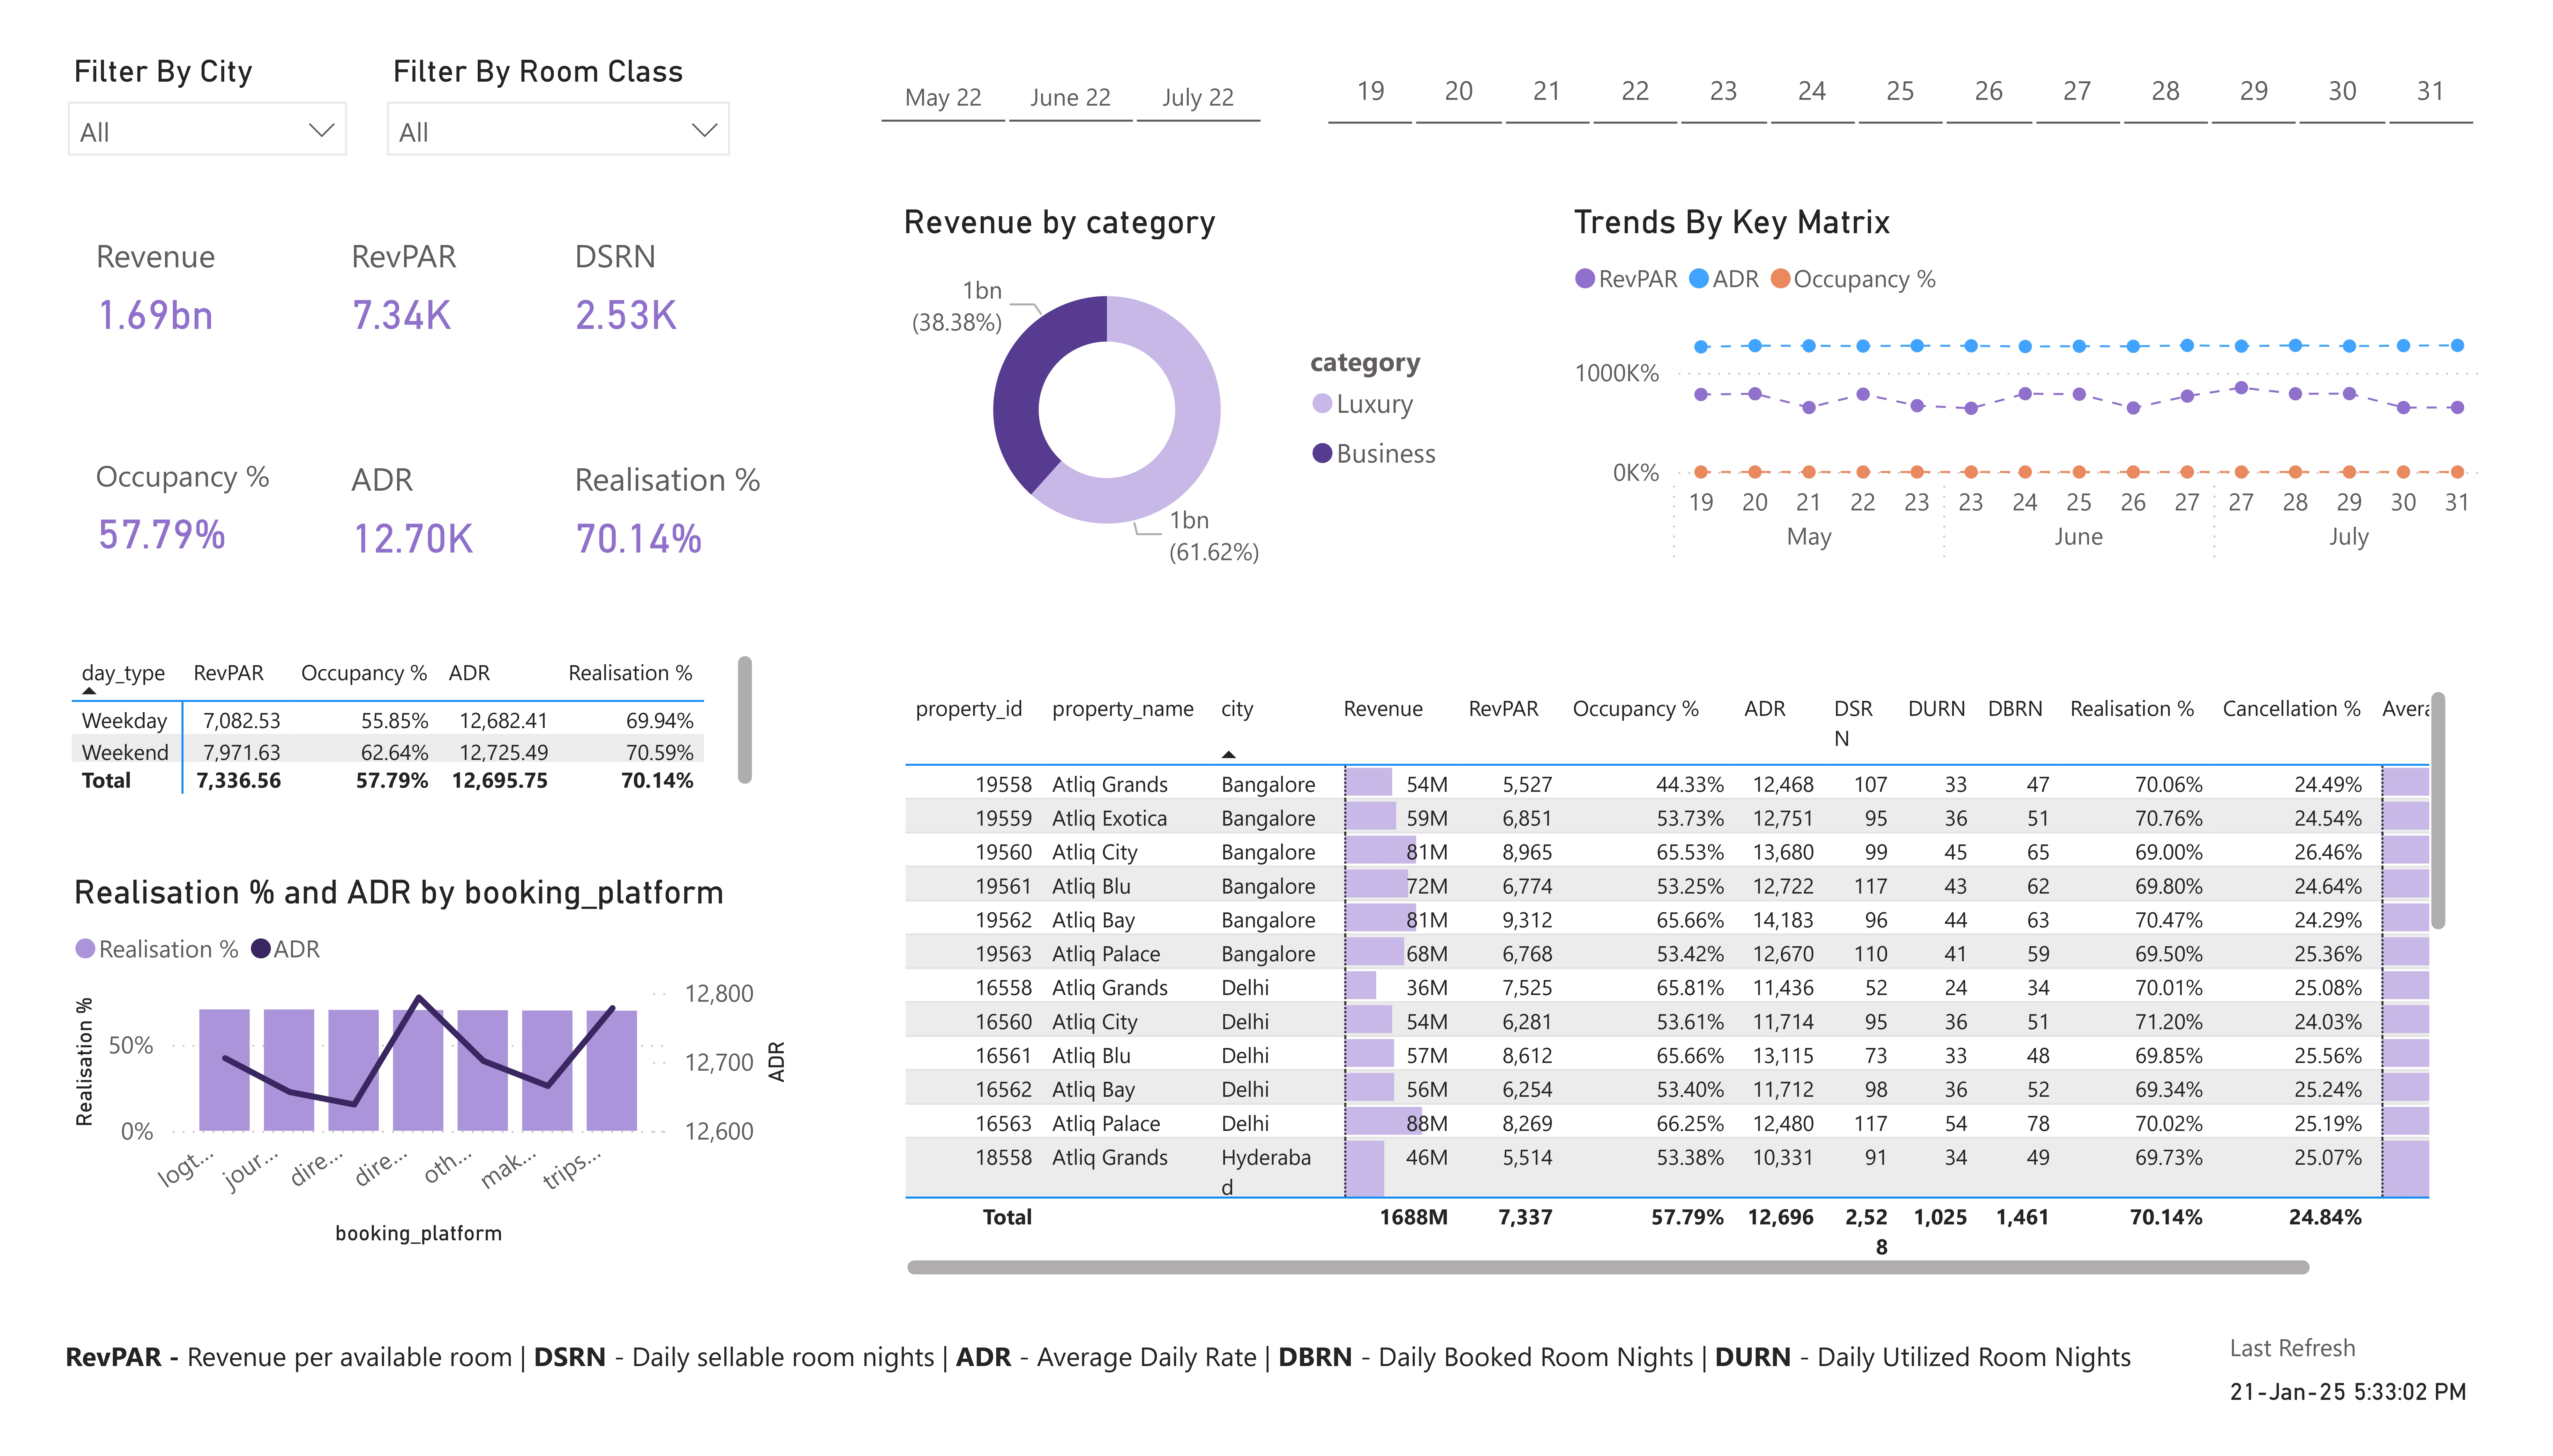

The dashboard page shown, as its layout file describes it:
{"tool":"powerbi","page":{"name":"Final Layout","canvas":[1280,720],"ordinal":0},"visuals":[{"type":"shape","box":[16,656,1248,50],"z":0},{"type":"shape","box":[432,320,832,320],"z":1000},{"type":"shape","box":[16,416,400,224],"z":2000},{"type":"shape","box":[768,80,496,220],"z":3000},{"type":"shape","box":[432,80,320,220],"z":4000},{"type":"lineStackedColumnComboChart","fields":{"Category":["fact_bookings.booking_platform"],"Y":["Key Measures Table.Realisation %"],"Y2":["Key Measures Table.ADR"]},"box":[32,432,368,192],"z":5000},{"type":"tableEx","fields":{"Values":["dim_hotels.property_id","dim_hotels.property_name","dim_hotels.city","Key Measures Table.Revenue","Key Measures Table.RevPAR","Key Measures Table.Occupancy %","Key Measures Table.ADR","Key Measures Table.DSRN","Key Measures Table.DURN","Key Measures Table.DBRN","Key Measures Table.Realisation %","Key Measures Table.Cancellation %"]},"box":[448,336,784,304],"z":6000},{"type":"shape","box":[8,88,400,320],"z":7000},{"type":"cardVisual","fields":{"Data":["Key Measures Table.Revenue"]},"box":[31.1,93.7,128,80],"z":8000},{"type":"cardVisual","fields":{"Data":["Key Measures Table.RevPAR"]},"box":[159.1,93.7,112,80],"z":9000},{"type":"cardVisual","fields":{"Data":["Key Measures Table.DSRN"]},"box":[271.1,93.7,112,80],"z":10000},{"type":"cardVisual","fields":{"Data":["Key Measures Table.Occupancy %"]},"box":[31.1,205.7,128,80],"z":11000},{"type":"cardVisual","fields":{"Data":["Key Measures Table.ADR"]},"box":[159.1,205.7,112,80],"z":12000},{"type":"cardVisual","fields":{"Data":["Key Measures Table.Realisation %"]},"box":[271.1,205.7,128,80],"z":13000},{"type":"lineChart","title":"Trends By Key Matrix","fields":{"Category":["dim_date.mmm yy.Variation.Date Hierarchy.Month","dim_date.week no2"],"Y":["Key Measures Table.RevPAR","Key Measures Table.ADR","Key Measures Table.Occupancy %"]},"box":[784,96,464,190],"z":14000},{"type":"shape","box":[16,16,304,48],"z":15000},{"type":"donutChart","fields":{"Y":["Key Measures Table.Revenue"],"Category":["dim_hotels.category"]},"box":[448,96,288,190],"z":16000},{"type":"slicer","fields":{"Values":["dim_hotels.city"]},"box":[24,16,160,64],"z":17000},{"type":"slicer","fields":{"Values":["dim_rooms.room_class"]},"box":[184,16,192,64],"z":18000},{"type":"shape","box":[400,16,864,48],"z":19000},{"type":"slicer","fields":{"Values":["dim_date.mmm yy"]},"box":[416,24,240,32],"z":20000},{"type":"slicer","fields":{"Values":["dim_date.week no2"]},"box":[640,16,624,48],"z":21000},{"type":"pivotTable","fields":{"Values":["Key Measures Table.RevPAR","Key Measures Table.Occupancy %","Key Measures Table.ADR","Key Measures Table.Realisation %"],"Rows":["dim_date.day_type"]},"box":[31.1,317.7,352,80],"z":22000},{"type":"textbox","box":[24.3,661.4,1067.1,40],"z":23000},{"type":"cardVisual","fields":{"Data":["Min(LastRefresh.LastRefresh)"]},"box":[1107.1,650,141.4,61.4],"z":24000}]}

Visuals, with their boxes in screenshot pixels (x1, y1, x2, y2), scaled from the page's 1280x720 canvas onto the 2553x1456 screenshot:
shape: 32, 1326, 2521, 1428
shape: 862, 647, 2521, 1294
shape: 32, 841, 830, 1294
shape: 1532, 162, 2521, 607
shape: 862, 162, 1500, 607
lineStackedColumnComboChart - fact_bookings.booking_platform x Key Measures Table.Realisation %: 64, 873, 798, 1262
tableEx - dim_hotels.property_id x dim_hotels.property_name: 894, 680, 2457, 1294
shape: 16, 178, 814, 825
cardVisual - Key Measures Table.Revenue: 62, 189, 317, 351
cardVisual - Key Measures Table.RevPAR: 317, 189, 541, 351
cardVisual - Key Measures Table.DSRN: 541, 189, 764, 351
cardVisual - Key Measures Table.Occupancy %: 62, 416, 317, 578
cardVisual - Key Measures Table.ADR: 317, 416, 541, 578
cardVisual - Key Measures Table.Realisation %: 541, 416, 796, 578
"Trends By Key Matrix" lineChart: 1564, 194, 2489, 578
shape: 32, 32, 638, 130
donutChart - Key Measures Table.Revenue x dim_hotels.category: 894, 194, 1468, 578
slicer - dim_hotels.city: 48, 32, 367, 162
slicer - dim_rooms.room_class: 367, 32, 750, 162
shape: 798, 32, 2521, 130
slicer - dim_date.mmm yy: 830, 48, 1308, 113
slicer - dim_date.week no2: 1276, 32, 2521, 130
pivotTable - Key Measures Table.RevPAR x Key Measures Table.Occupancy %: 62, 643, 764, 804
textbox: 49, 1338, 2177, 1418
cardVisual - Min(LastRefresh.LastRefresh): 2208, 1314, 2490, 1438
